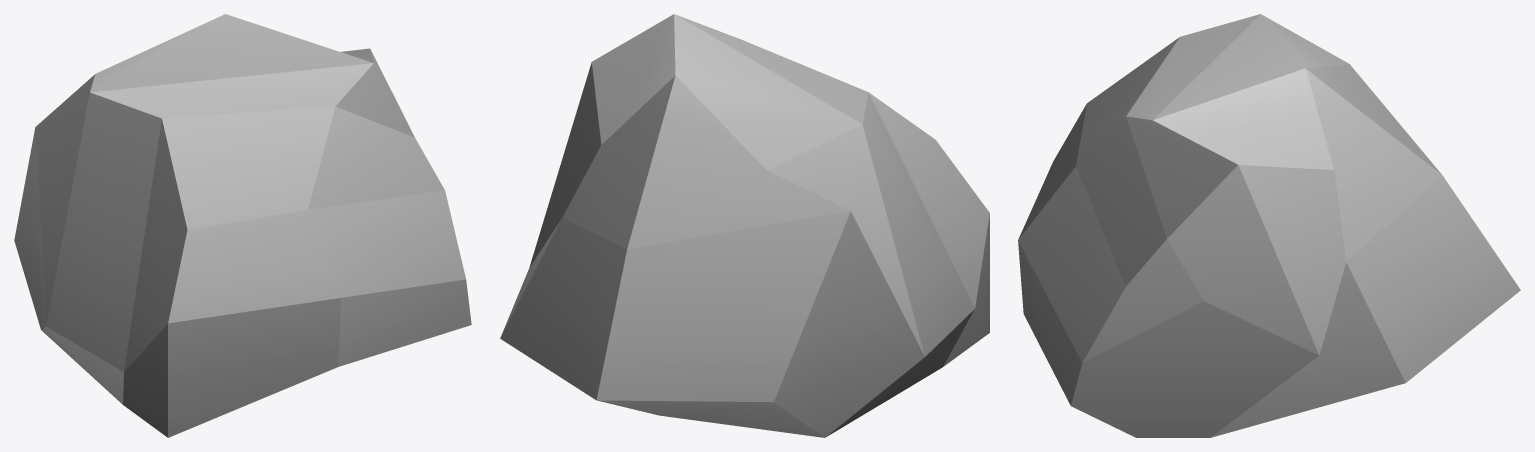
Rendered from rock_04.fbx.
The picture shows the model from 3 angles, left to right: view 1: azimuth 30°, elevation 25°; view 2: azimuth 150°, elevation 25°; view 3: azimuth 270°, elevation 25°; orthographic projection. The views are drawn at different scales.
Visible parts, largest first — view 1: rock_04; view 2: rock_04; view 3: rock_04.
Boxes of the visible parts, x1,y1,x2,y2 form: rock_04: (14, 14, 471, 437); rock_04: (500, 14, 989, 437); rock_04: (1018, 14, 1520, 437).
Bounding box in the file's own units: 137 × 111 × 168.
